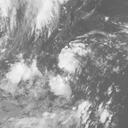cyclone: (36, 31, 97, 92)
